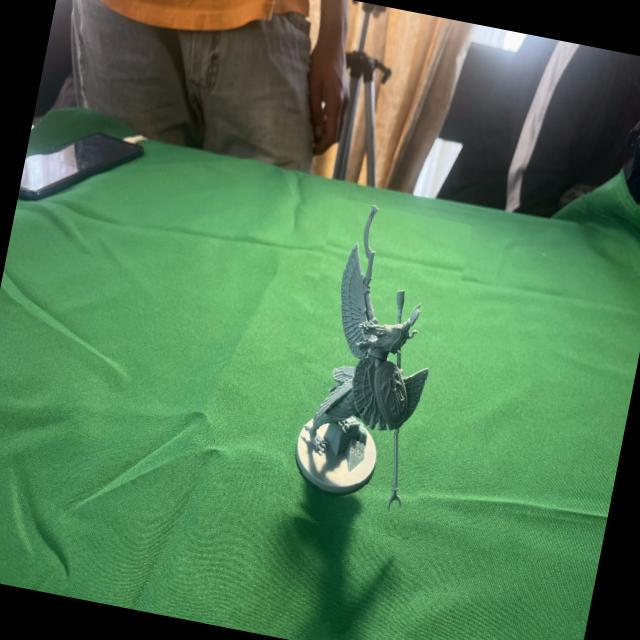isis: (272, 198, 472, 540)
